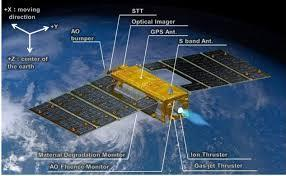body: (106, 62, 192, 125)
solar: (27, 74, 161, 138), (135, 47, 275, 94)
